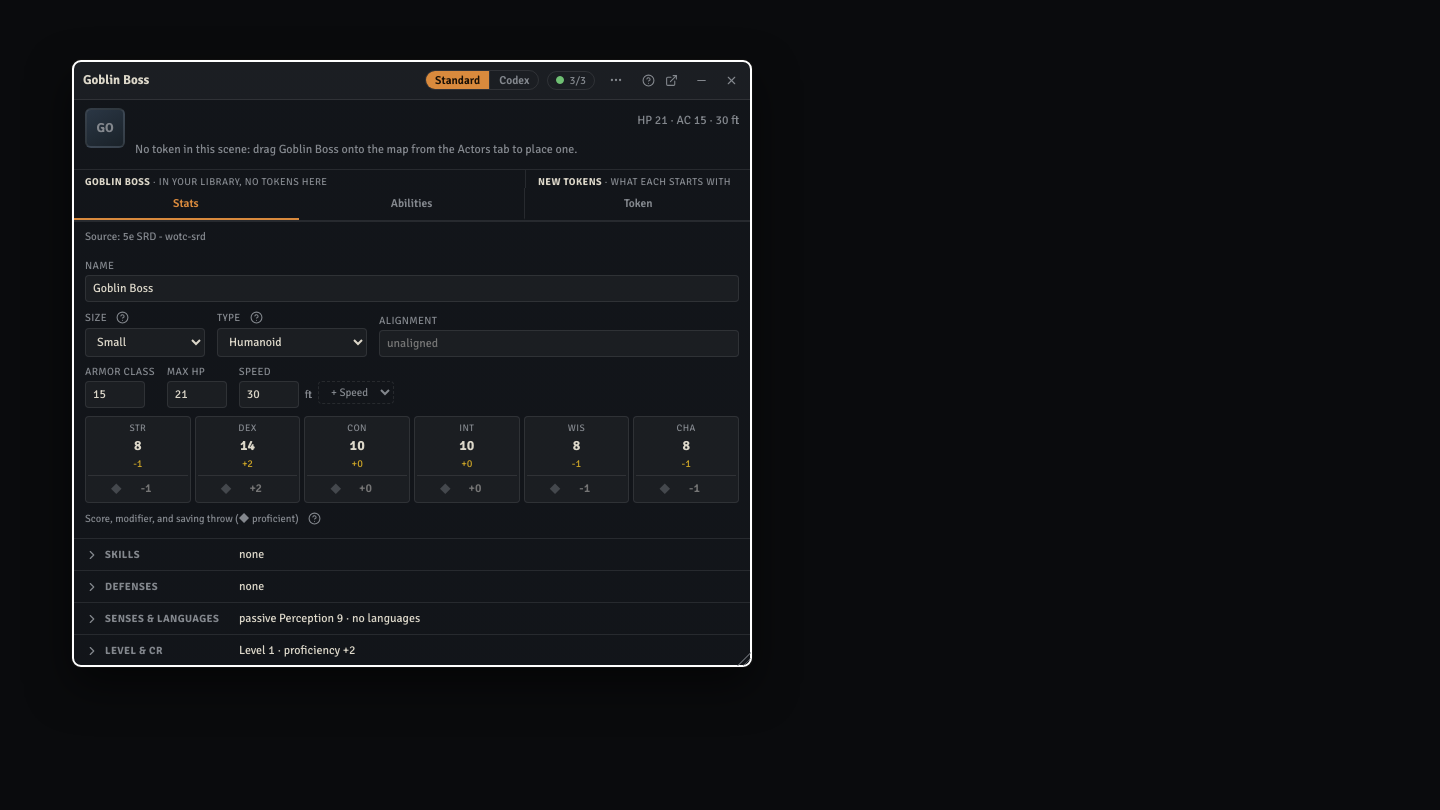
Test: a sheet with no token › offers no token items in ⋯
Click the button named "More actions".
click(614, 80)  # box [603,69,625,91]
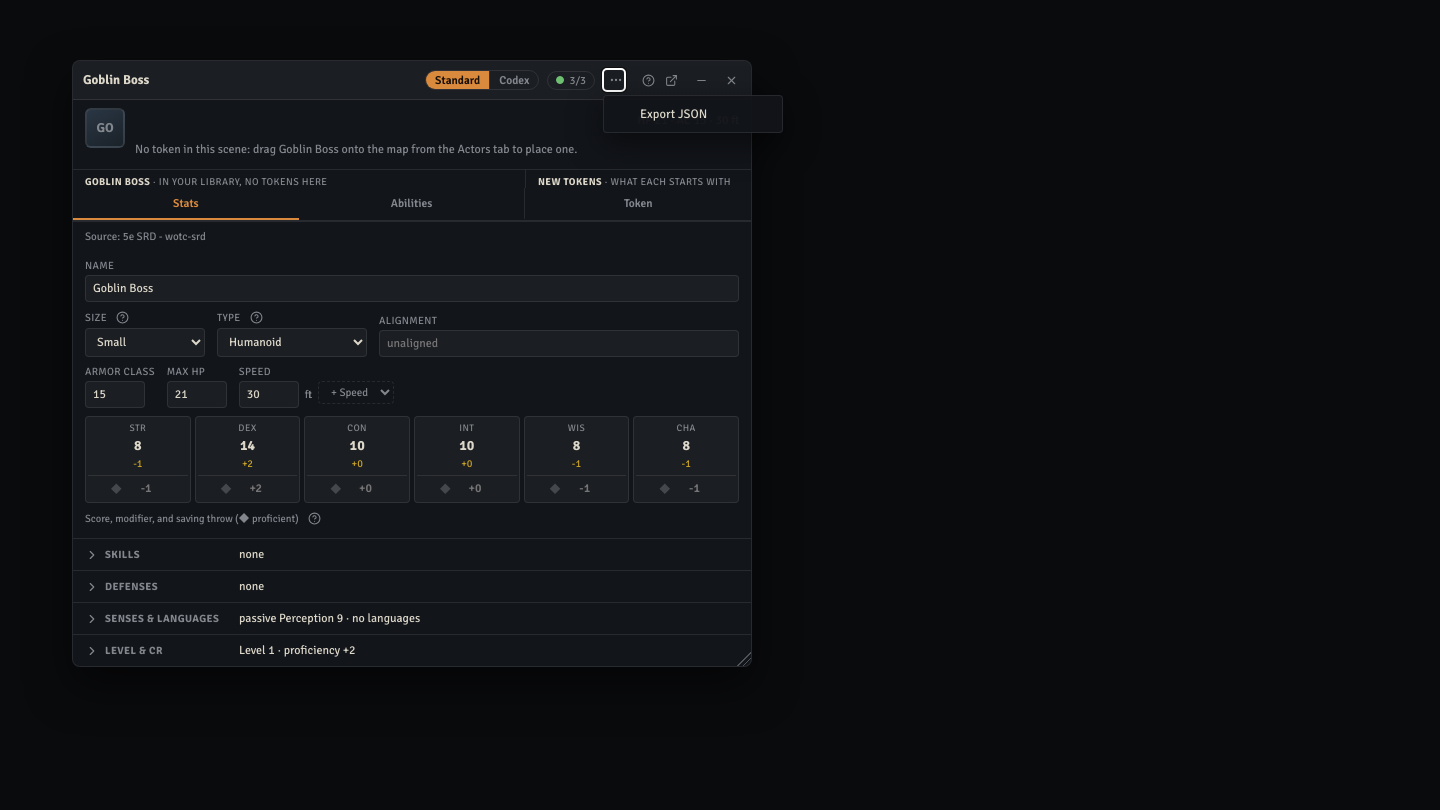
Expected: the menu item "Export JSON" is shown, [608,100,778,128]
